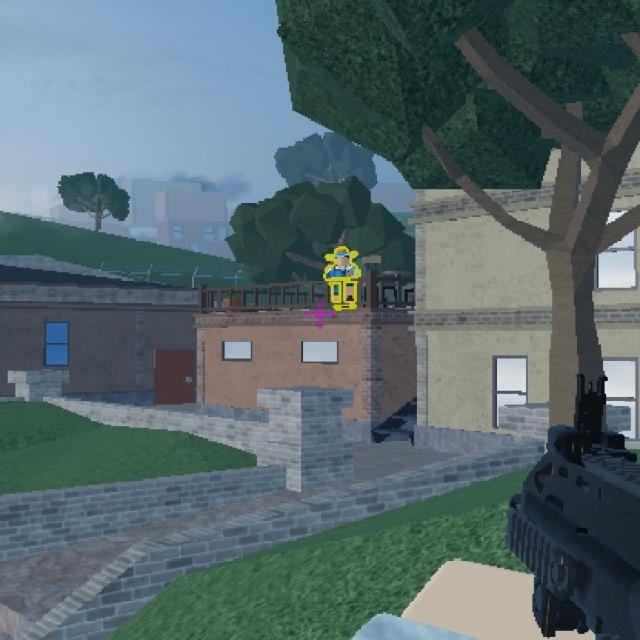player: (325, 243, 364, 314)
